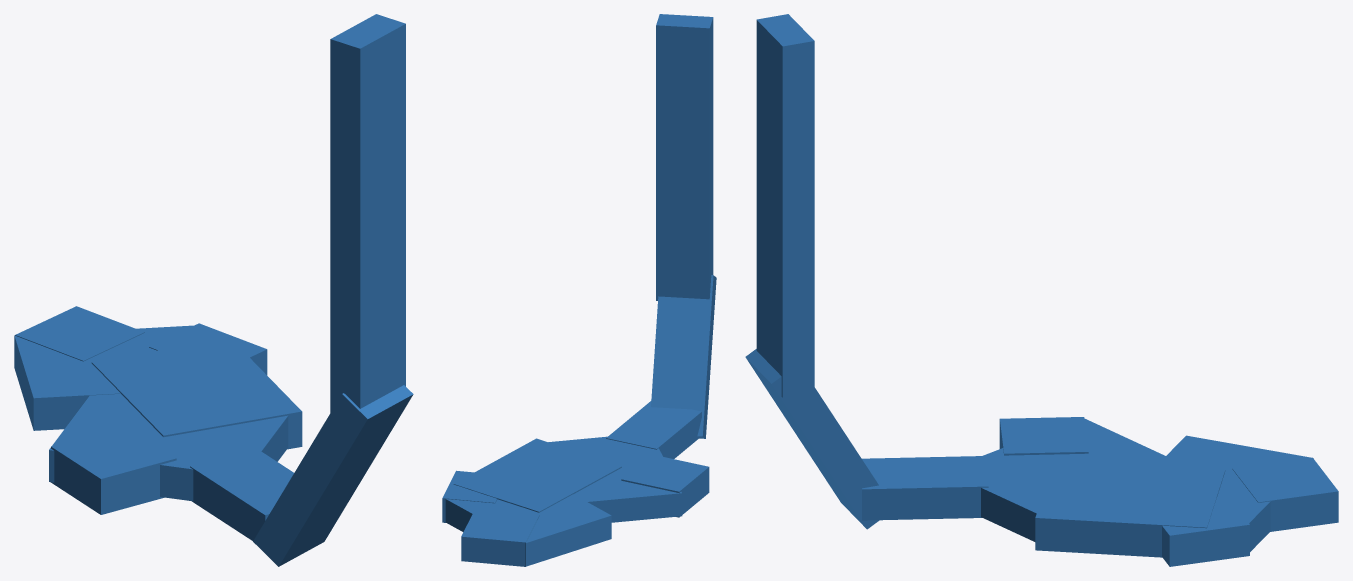
The model's file is p_WaterfallPuddle.fbx.
3 views of the same model, side by side, from view 1: azimuth 30°, elevation 25°; view 2: azimuth 150°, elevation 25°; view 3: azimuth 270°, elevation 25° (orthographic). The views are drawn at different scales.
Parts seen in each view (by area): view 1: Waterfallish, Water__21_, Waterfallish__1_, Water__10_, Water__25_, Water__22_, Water__26_, Water__23_, Water__24_; view 2: Waterfallish, Waterfallish__1_, Water__21_, Water__22_, Water__10_, Water__23_, Water__26_, Water__25_, Water__24_; view 3: Waterfallish, Water__21_, Water__26_, Water__10_, Waterfallish__1_, Water__23_, Water__22_, Water__24_, Water__25_.
Boxes of the visible parts, x1,y1,x2,y2 form: Waterfallish: (330, 14, 405, 412); Water__21_: (91, 338, 302, 449); Waterfallish__1_: (253, 385, 413, 566); Water__10_: (49, 394, 288, 501); Water__25_: (51, 426, 176, 514); Water__22_: (14, 325, 193, 430); Water__26_: (190, 448, 293, 540); Water__23_: (15, 306, 144, 361); Water__24_: (149, 323, 267, 375); Waterfallish: (656, 14, 713, 300); Waterfallish__1_: (651, 275, 716, 438); Water__21_: (453, 438, 621, 512); Water__22_: (445, 494, 611, 566); Water__10_: (548, 436, 682, 522); Water__23_: (461, 509, 539, 566); Water__26_: (606, 401, 701, 458); Water__25_: (621, 454, 709, 517); Water__24_: (442, 470, 497, 522); Waterfallish: (756, 14, 814, 397); Water__21_: (1035, 460, 1225, 557); Water__26_: (862, 456, 988, 520); Water__10_: (981, 418, 1165, 541); Waterfallish__1_: (745, 349, 879, 529); Water__23_: (1232, 457, 1338, 531); Water__22_: (1156, 435, 1313, 551); Water__24_: (1162, 497, 1249, 566); Water__25_: (999, 417, 1088, 455).
Bounding box in the file's own units: 409 × 799 × 861.
